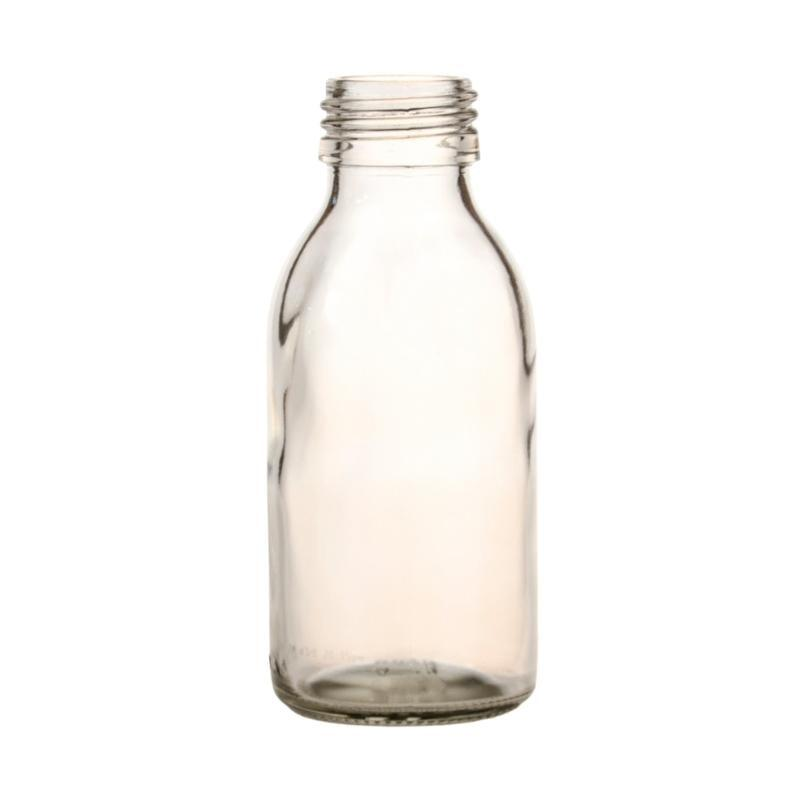glass_bottle: (251, 55, 556, 745)
